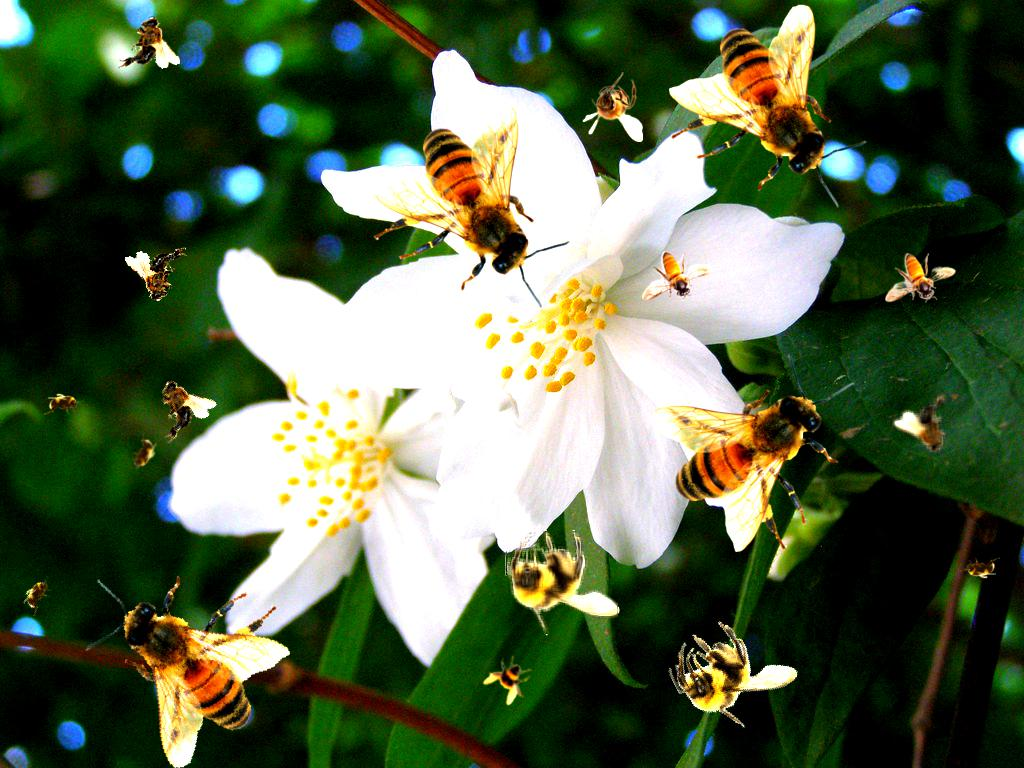Bee: (68, 537, 311, 768), (651, 353, 855, 552), (669, 4, 868, 208), (372, 104, 571, 308), (657, 599, 810, 748), (505, 529, 620, 636), (137, 365, 220, 447), (890, 388, 971, 466), (124, 243, 195, 307), (582, 72, 643, 142), (114, 14, 181, 72), (479, 649, 541, 711), (642, 251, 713, 301), (885, 253, 956, 303), (17, 571, 59, 617), (123, 431, 163, 477), (959, 556, 1001, 580), (44, 393, 84, 415)
